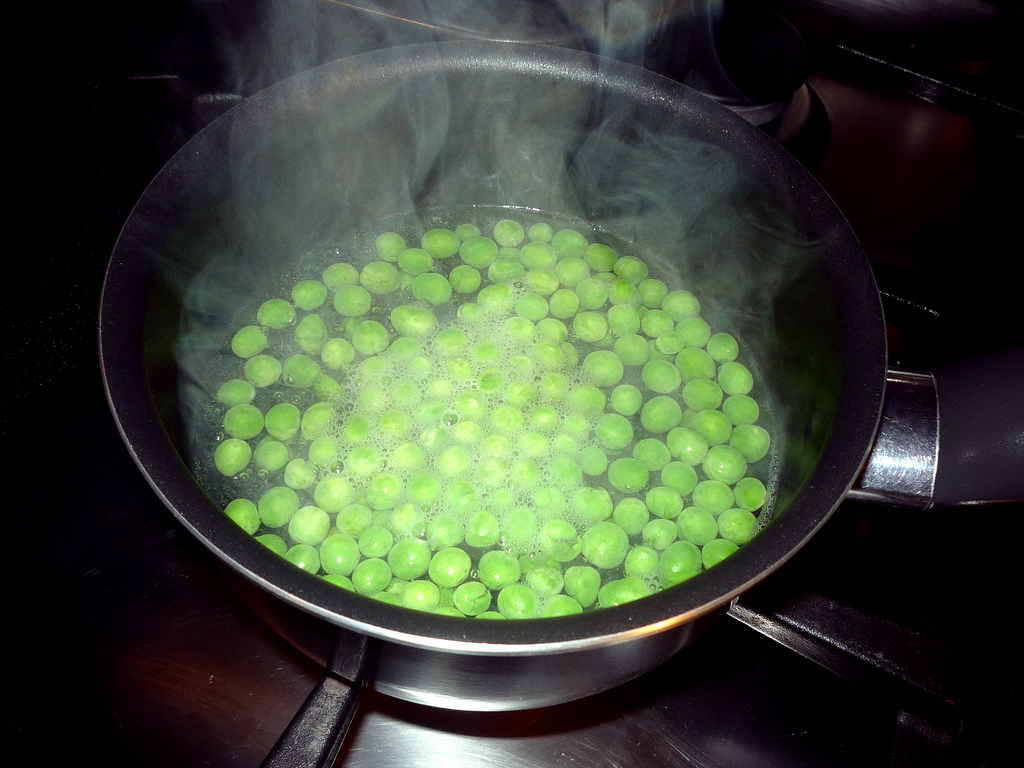boiled peas: (288, 273, 704, 535)
